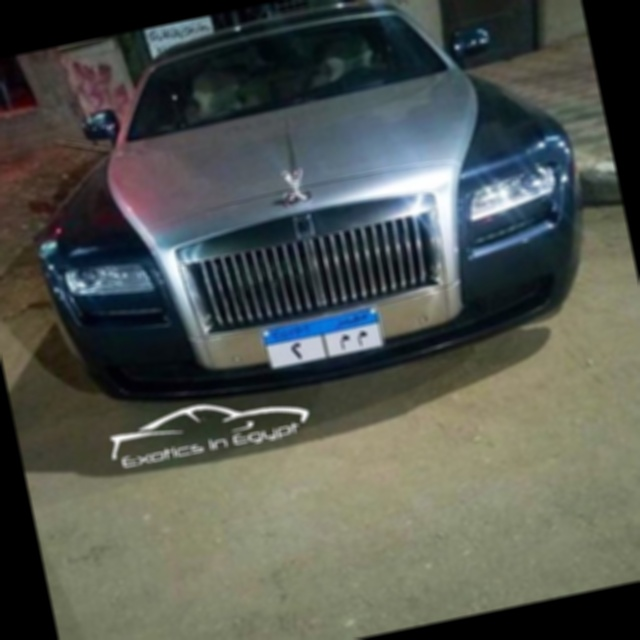License Plate: (258, 303, 389, 374)
